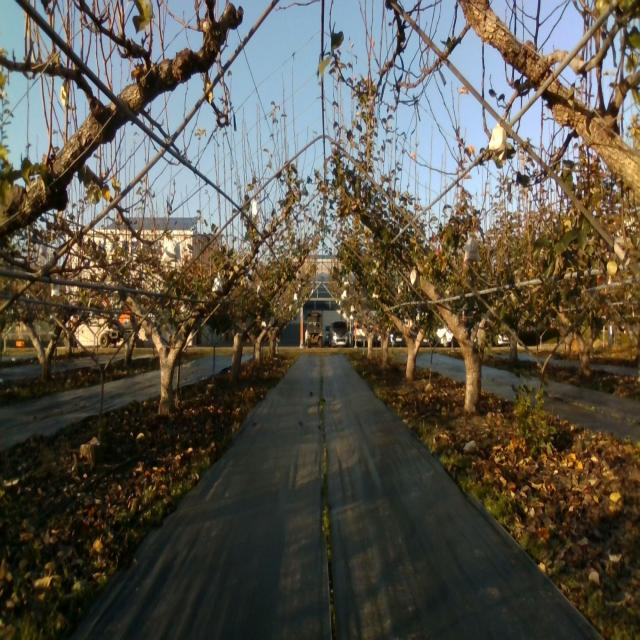pearbags: (488, 123, 506, 166), (162, 238, 181, 268), (463, 234, 480, 264), (212, 272, 222, 292)
